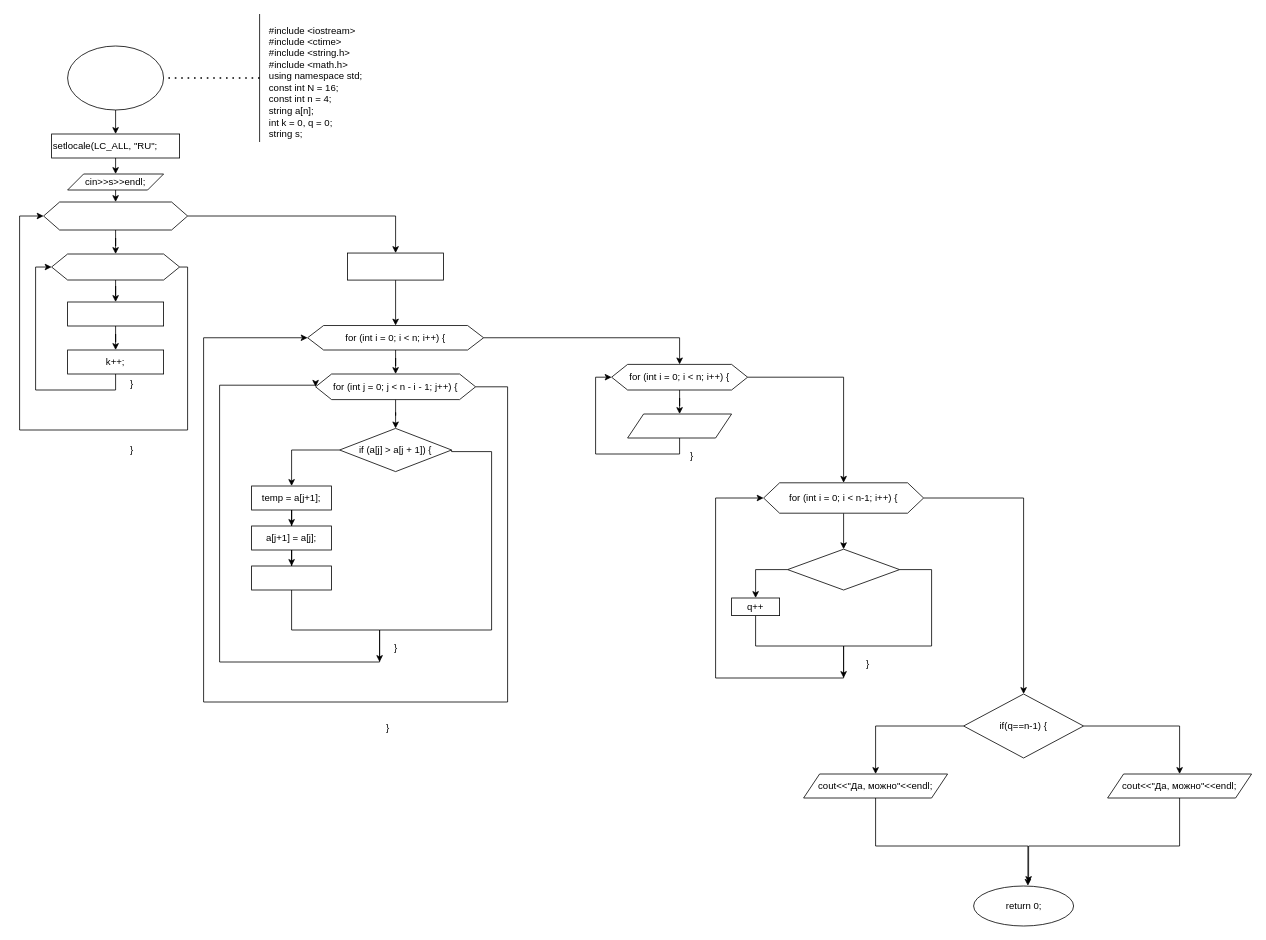
The diagram is 1266 pixels wide and 940 high, and some of its shapes have lost their labels. The centre of each missing label's shape, as x and y in pixels:
"a[i] += s[k];" goes at pixel 115 313.
"a[j] = temp;" goes at pixel 291 577.
"cout<<a[i]<<endl;" goes at pixel 679 425.
"for (int j = 0; j < n; j++) {" goes at pixel 115 266.
"for( int i = 0; i<n; i++) {" goes at pixel 115 215.
"if (a[i] < a[i + 1]) {" goes at pixel 843 569.
"int main() {" goes at pixel 115 77.
"string temp;" goes at pixel 395 266.
